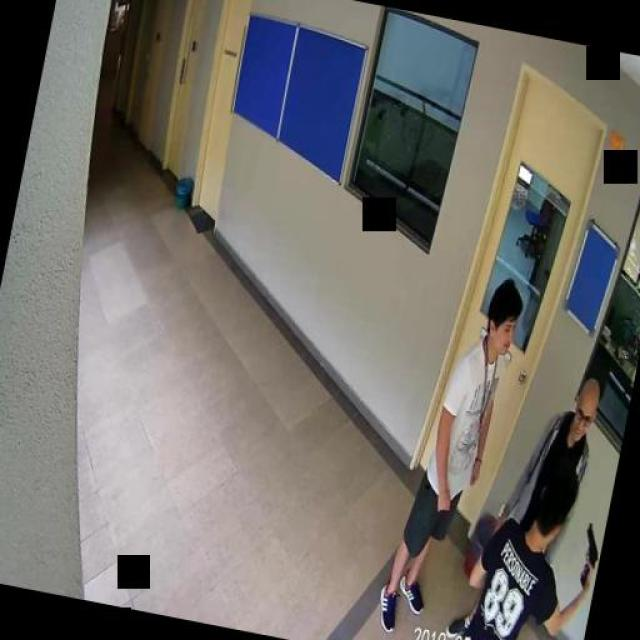gun: (574, 520, 602, 589)
